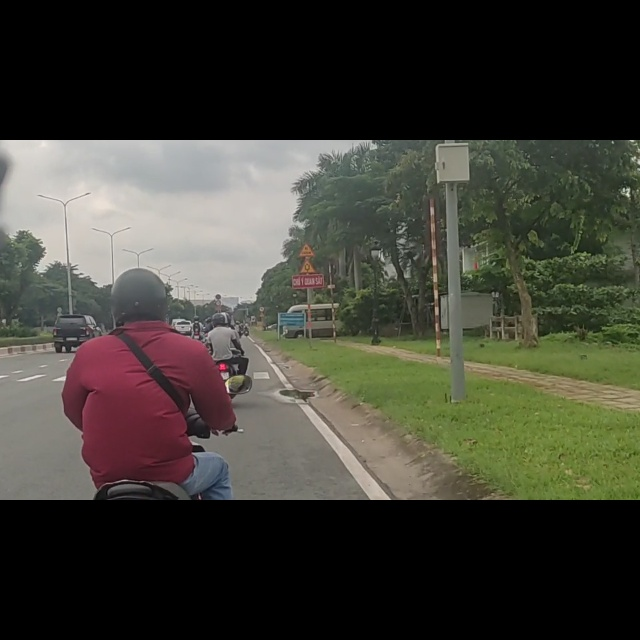bien_cam: (299, 213, 318, 237), (299, 183, 316, 209), (215, 273, 221, 283)
